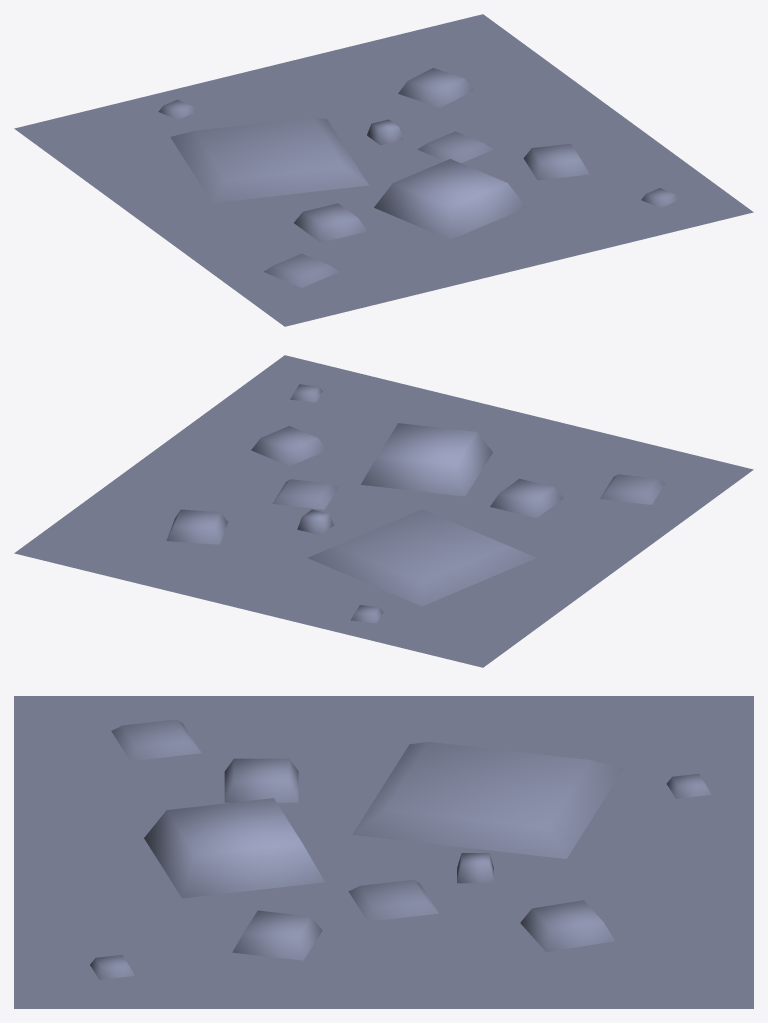
File: floor-detail.obj
3 views of the same model, one above another, from view 1: azimuth 30°, elevation 25°; view 2: azimuth 150°, elevation 25°; view 3: azimuth 270°, elevation 25° (orthographic). The views are drawn at different scales.
Parts seen in each view (by area): view 1: floor-detail; view 2: floor-detail; view 3: floor-detail.
Boxes of the visible parts, bbox=[...] form: floor-detail: bbox=[14, 14, 753, 326]; floor-detail: bbox=[14, 355, 753, 667]; floor-detail: bbox=[14, 696, 753, 1008].
Bounding box in the file's own units: 1 × 0.05 × 1.
1 material, 1 textured.
